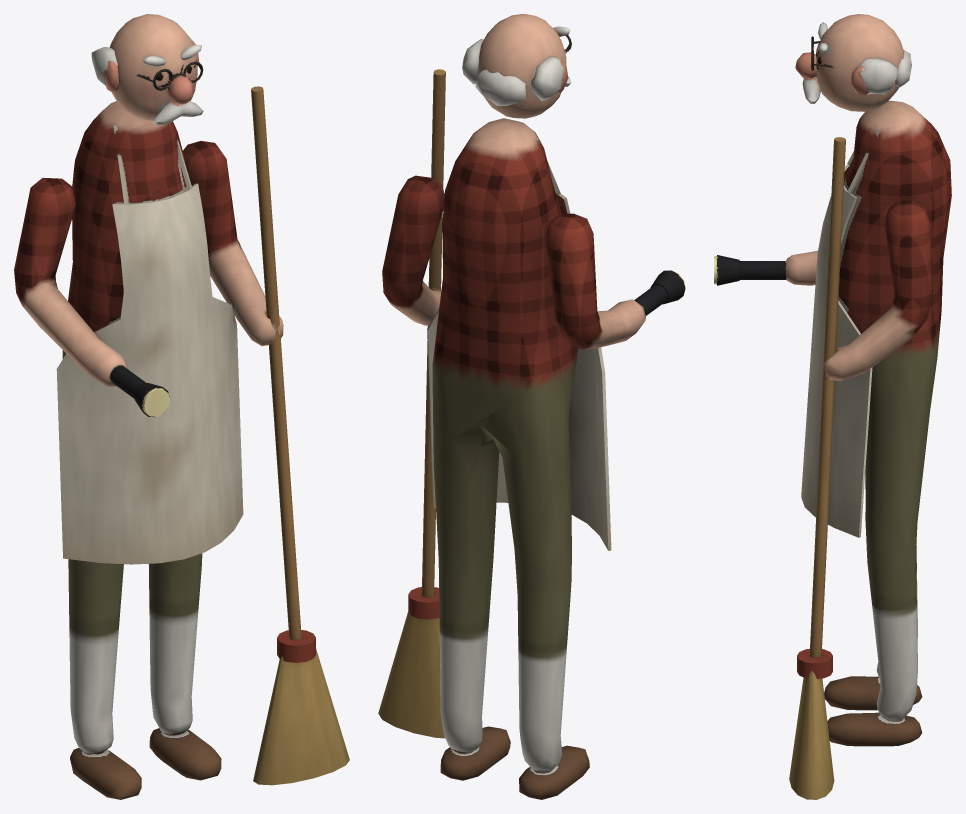
Rendered from Char_SeuZe.fbx.
3 views of the same model, side by side, from view 1: azimuth 30°, elevation 25°; view 2: azimuth 150°, elevation 25°; view 3: azimuth 270°, elevation 25° (orthographic). The views are drawn at different scales.
Visible parts, largest first — view 1: Char_SeuZe; view 2: Char_SeuZe; view 3: Char_SeuZe.
Part boxes in pixels (x1,y1,x2,y2): Char_SeuZe: (14, 14, 349, 799); Char_SeuZe: (378, 14, 685, 799); Char_SeuZe: (714, 14, 951, 799).
Bounding box in the file's own units: 0.585 × 1.56 × 0.4738.
1 material, 1 textured.
